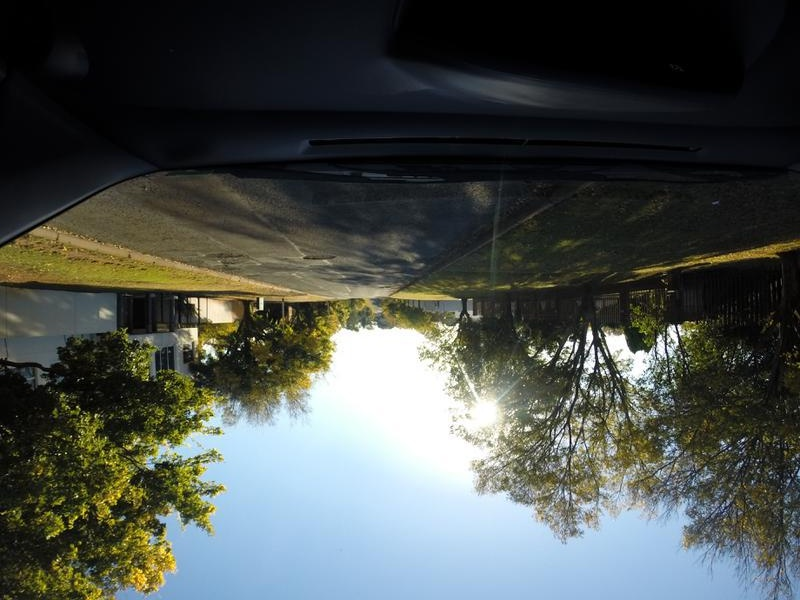pothole: (297, 250, 334, 266), (203, 249, 240, 260)
